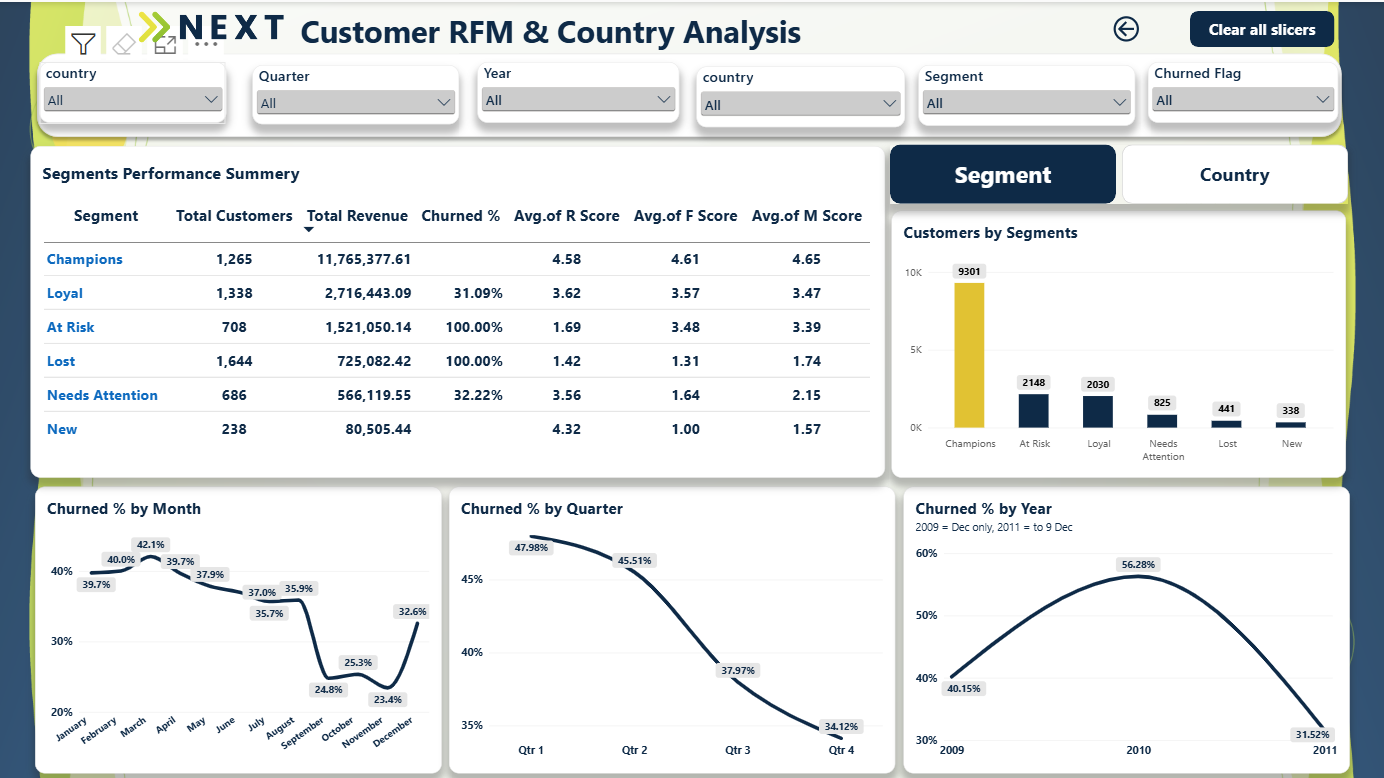

The dashboard page shown, as its layout file describes it:
{"tool":"powerbi","page":{"name":"Customer RFM","canvas":[1920,1080],"ordinal":2},"visuals":[{"type":"shape","box":[43.7,62,1824.5,133.3],"z":0},{"type":"tableEx","title":"Country Performance Summery","fields":{"Values":["public customer_segments.country","public customer_segments.customer_id","Table.Total Revenue","Table.Churned %","public customer_segments.r_score","public customer_segments.f_score","public customer_segments.m_score"]},"box":[50.1,193.7,1176.5,461.9],"z":0,"group":"g1"},{"type":"slicer","fields":{"Values":["public nextdata_analysis.country"]},"box":[55.6,84.1,258.9,84],"z":1000},{"type":"columnChart","title":"Top 5 Country by Customers","fields":{"Category":["public nextdata_analysis.country"],"Y":["Count(public nextdata_analysis.customer_id)"]},"box":[1233.5,290.3,636.5,370],"z":1000,"group":"g1"},{"type":"slicer","fields":{"Values":["public nextdata_analysis.invoicedate.Variation.Date Hierarchy.Quarter"]},"box":[350.9,86.4,286.2,81.8],"z":2000},{"type":"slicer","fields":{"Values":["public nextdata_analysis.invoicedate.Variation.Date Hierarchy.Year"]},"box":[662,84.1,279.4,84],"z":3000},{"type":"slicer","fields":{"Values":["public customer_segments.customer_segment"]},"box":[1273,86.4,299.8,84],"z":4000},{"type":"slicer","fields":{"Values":["public customer_segments.churn_flag"]},"box":[1591,84.1,263.5,84],"z":5000},{"type":"slicer","fields":{"Values":["public customer_segments.country"]},"box":[966.4,88.6,288.5,84],"z":6000},{"type":"lineChart","title":"Churned % by Month","fields":{"Category":["public nextdata_analysis.invoicedate.Variation.Date Hierarchy.Month"],"Y":["Table.Churned %"]},"box":[50,670,563.3,397.5],"z":7000},{"type":"lineChart","title":"Churned % by Quarter","fields":{"Category":["public nextdata_analysis.invoicedate.Variation.Date Hierarchy.Quarter"],"Y":["Table.Churned %"]},"box":[622.3,670,617.8,397.5],"z":8000},{"type":"lineChart","title":"Churned % by Year","fields":{"Category":["public nextdata_analysis.invoicedate.Variation.Date Hierarchy.Year"],"Y":["Table.Churned %"]},"box":[1251.5,670,617.8,397.5],"z":9000},{"type":"group","id":"g1","title":"Group 1","box":[50.1,193.7,1819.9,466.6],"z":10000},{"type":"bookmarkNavigator","box":[1234,197.6,634.2,82.7],"z":12000},{"type":"image","box":[186.1,0,214.1,68.9],"z":13000,"group":"g2"},{"type":"actionButton","box":[1649.9,11.5,200,50],"z":13000},{"type":"actionButton","box":[1507.4,6.9,105.7,62],"z":14000},{"type":"textbox","box":[415.8,10.8,836.5,58.2],"z":14000,"group":"g2"},{"type":"group","id":"g2","title":"Group 3","box":[186.1,0,1066.2,68.9],"z":15000}]}

Visuals, with their boxes in screenshot pixels (x1, y1, x2, y2), scaled from the page's 1920x1080 canvas onto the 1384x778 screenshot:
shape: {"x1": 32, "y1": 45, "x2": 1347, "y2": 141}
"Country Performance Summery" tableEx: {"x1": 36, "y1": 140, "x2": 884, "y2": 472}
slicer - public nextdata_analysis.country: {"x1": 40, "y1": 61, "x2": 227, "y2": 121}
"Top 5 Country by Customers" columnChart: {"x1": 889, "y1": 209, "x2": 1348, "y2": 476}
slicer - public nextdata_analysis.invoicedate.Variation.Date Hierarchy.Quarter: {"x1": 253, "y1": 62, "x2": 459, "y2": 121}
slicer - public nextdata_analysis.invoicedate.Variation.Date Hierarchy.Year: {"x1": 477, "y1": 61, "x2": 679, "y2": 121}
slicer - public customer_segments.customer_segment: {"x1": 918, "y1": 62, "x2": 1134, "y2": 123}
slicer - public customer_segments.churn_flag: {"x1": 1147, "y1": 61, "x2": 1337, "y2": 121}
slicer - public customer_segments.country: {"x1": 697, "y1": 64, "x2": 905, "y2": 124}
"Churned % by Month" lineChart: {"x1": 36, "y1": 483, "x2": 442, "y2": 769}
"Churned % by Quarter" lineChart: {"x1": 449, "y1": 483, "x2": 894, "y2": 769}
"Churned % by Year" lineChart: {"x1": 902, "y1": 483, "x2": 1347, "y2": 769}
"Group 1" group: {"x1": 36, "y1": 140, "x2": 1348, "y2": 476}
bookmarkNavigator: {"x1": 890, "y1": 142, "x2": 1347, "y2": 202}
image: {"x1": 134, "y1": 0, "x2": 288, "y2": 50}
actionButton: {"x1": 1189, "y1": 8, "x2": 1333, "y2": 44}
actionButton: {"x1": 1087, "y1": 5, "x2": 1163, "y2": 50}
textbox: {"x1": 300, "y1": 8, "x2": 903, "y2": 50}
"Group 3" group: {"x1": 134, "y1": 0, "x2": 903, "y2": 50}
